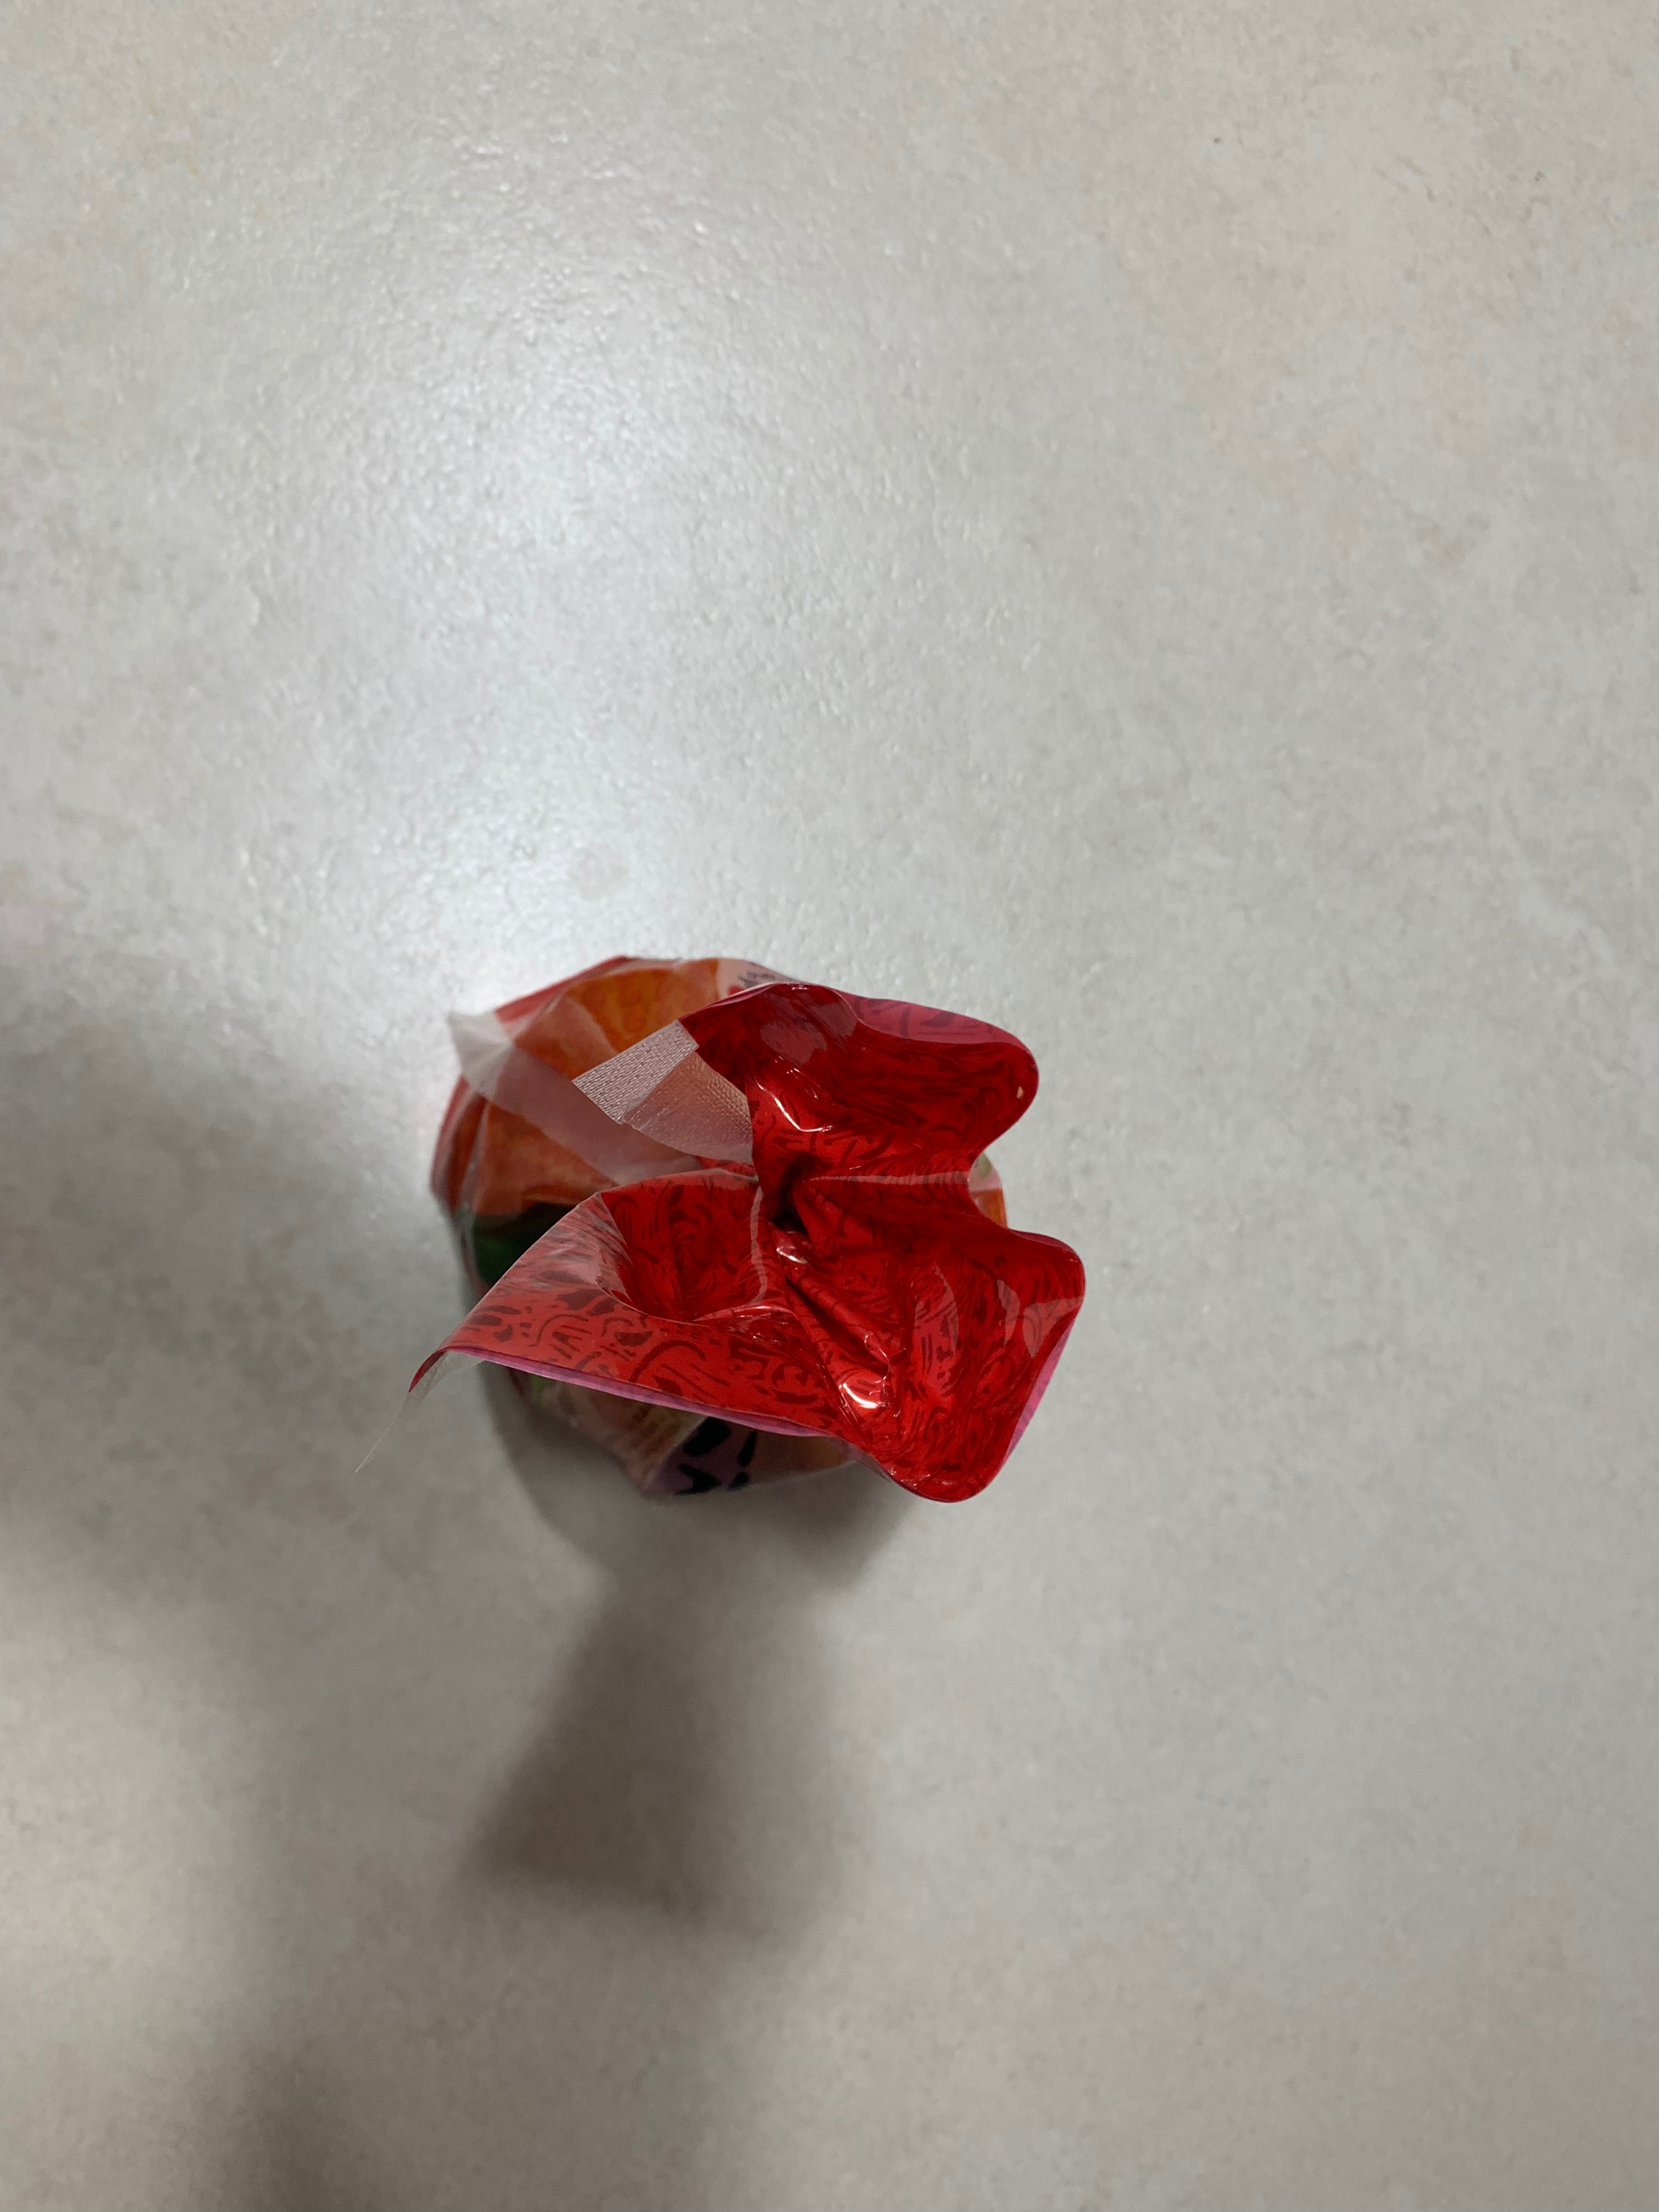kimchi: (427, 949, 1087, 1512)
